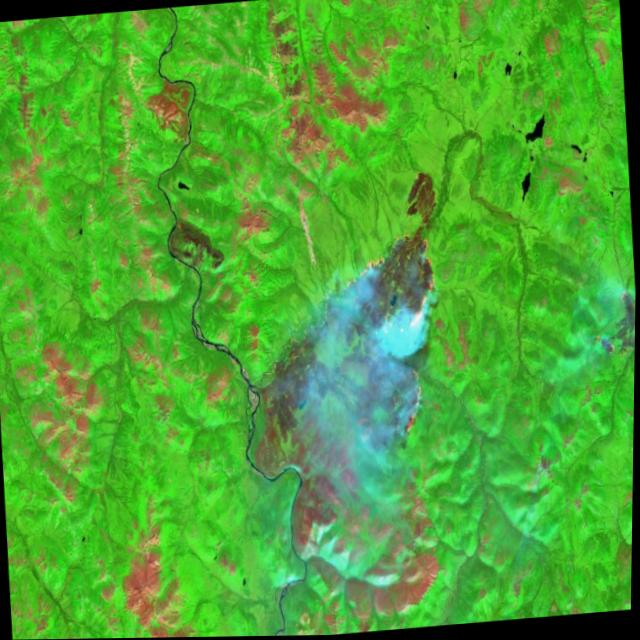fire: (329, 220, 457, 444)
